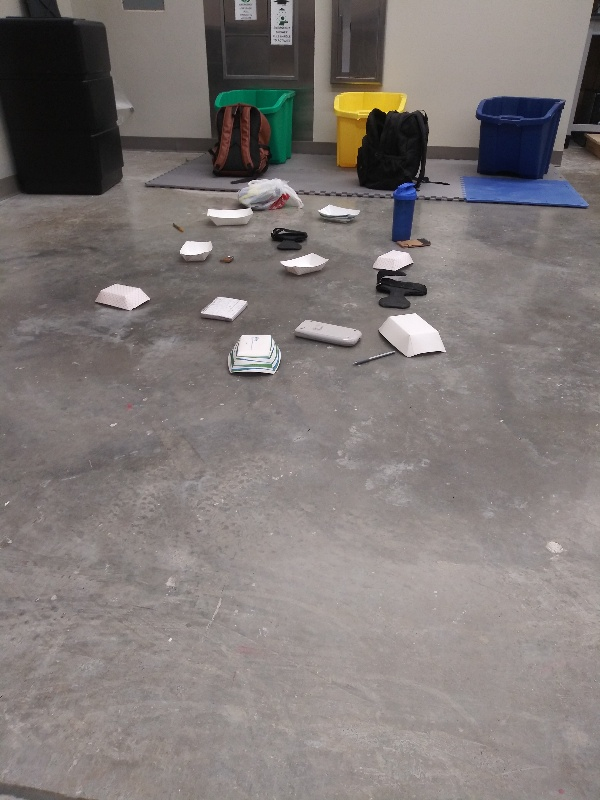plate: (375, 310, 451, 359), (220, 334, 285, 380), (90, 280, 153, 316), (277, 251, 334, 279), (315, 199, 365, 229), (368, 246, 415, 274), (204, 205, 255, 230), (175, 235, 215, 266)
